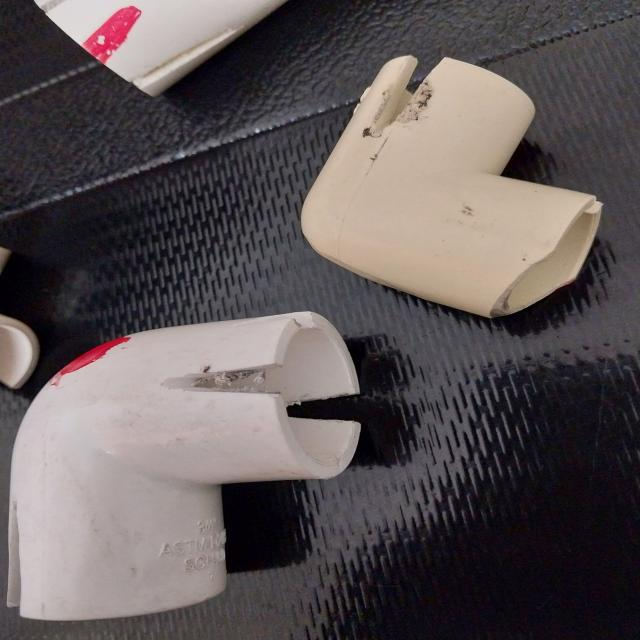Defective: (64, 5, 204, 65), (370, 58, 439, 144), (158, 364, 298, 396), (89, 7, 151, 62), (1, 490, 23, 615)
L Joint: (8, 267, 364, 622), (302, 55, 604, 331)
T Joint: (25, 0, 300, 100), (0, 246, 42, 393)
